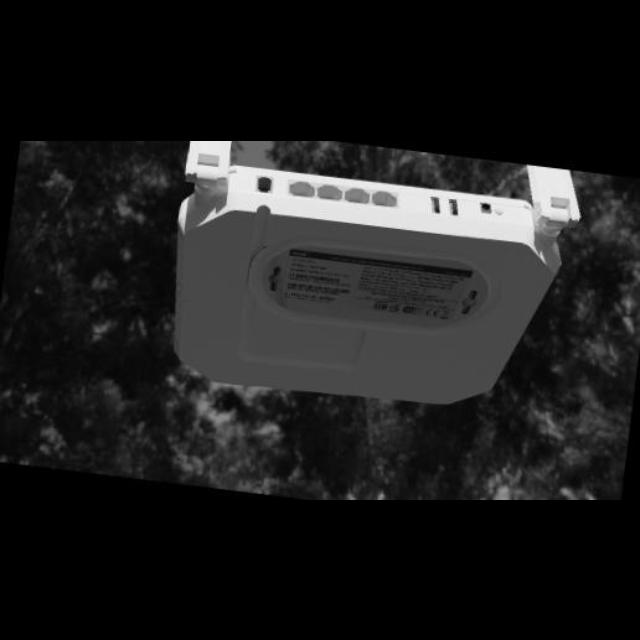Router: (157, 140, 588, 412)
